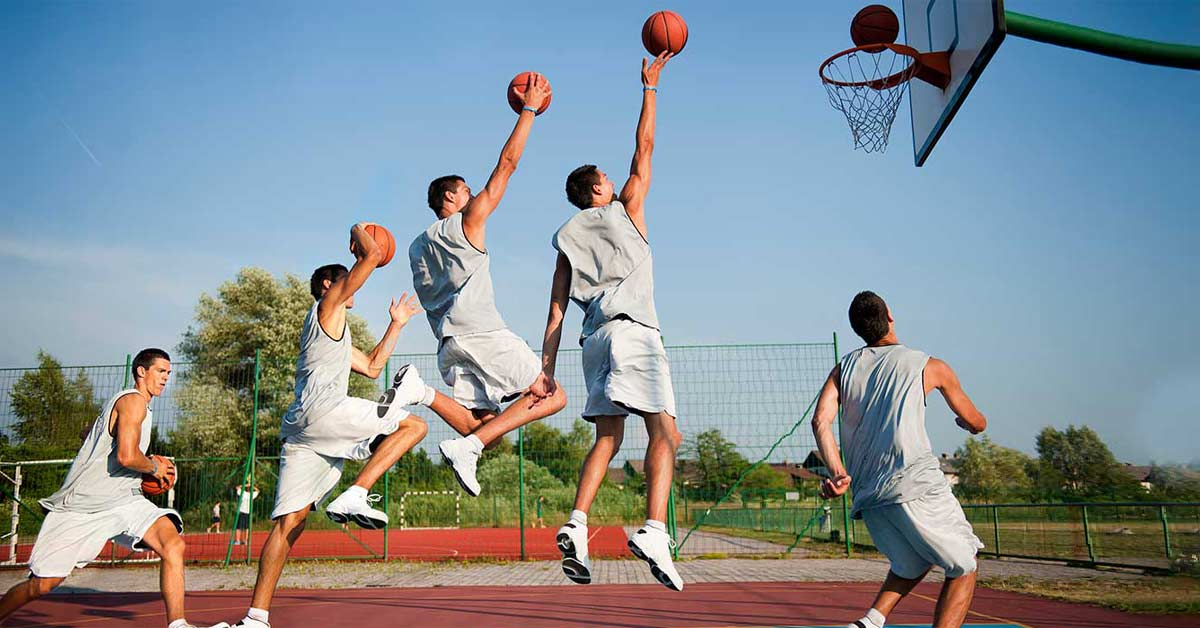b_ball: (633, 8, 706, 58), (842, 4, 906, 48), (349, 221, 398, 270), (506, 71, 559, 115), (143, 453, 183, 498)
basket: (811, 44, 930, 165)
player: (530, 1, 714, 624), (235, 212, 423, 628), (401, 45, 550, 502), (800, 287, 998, 628), (2, 320, 200, 616)
